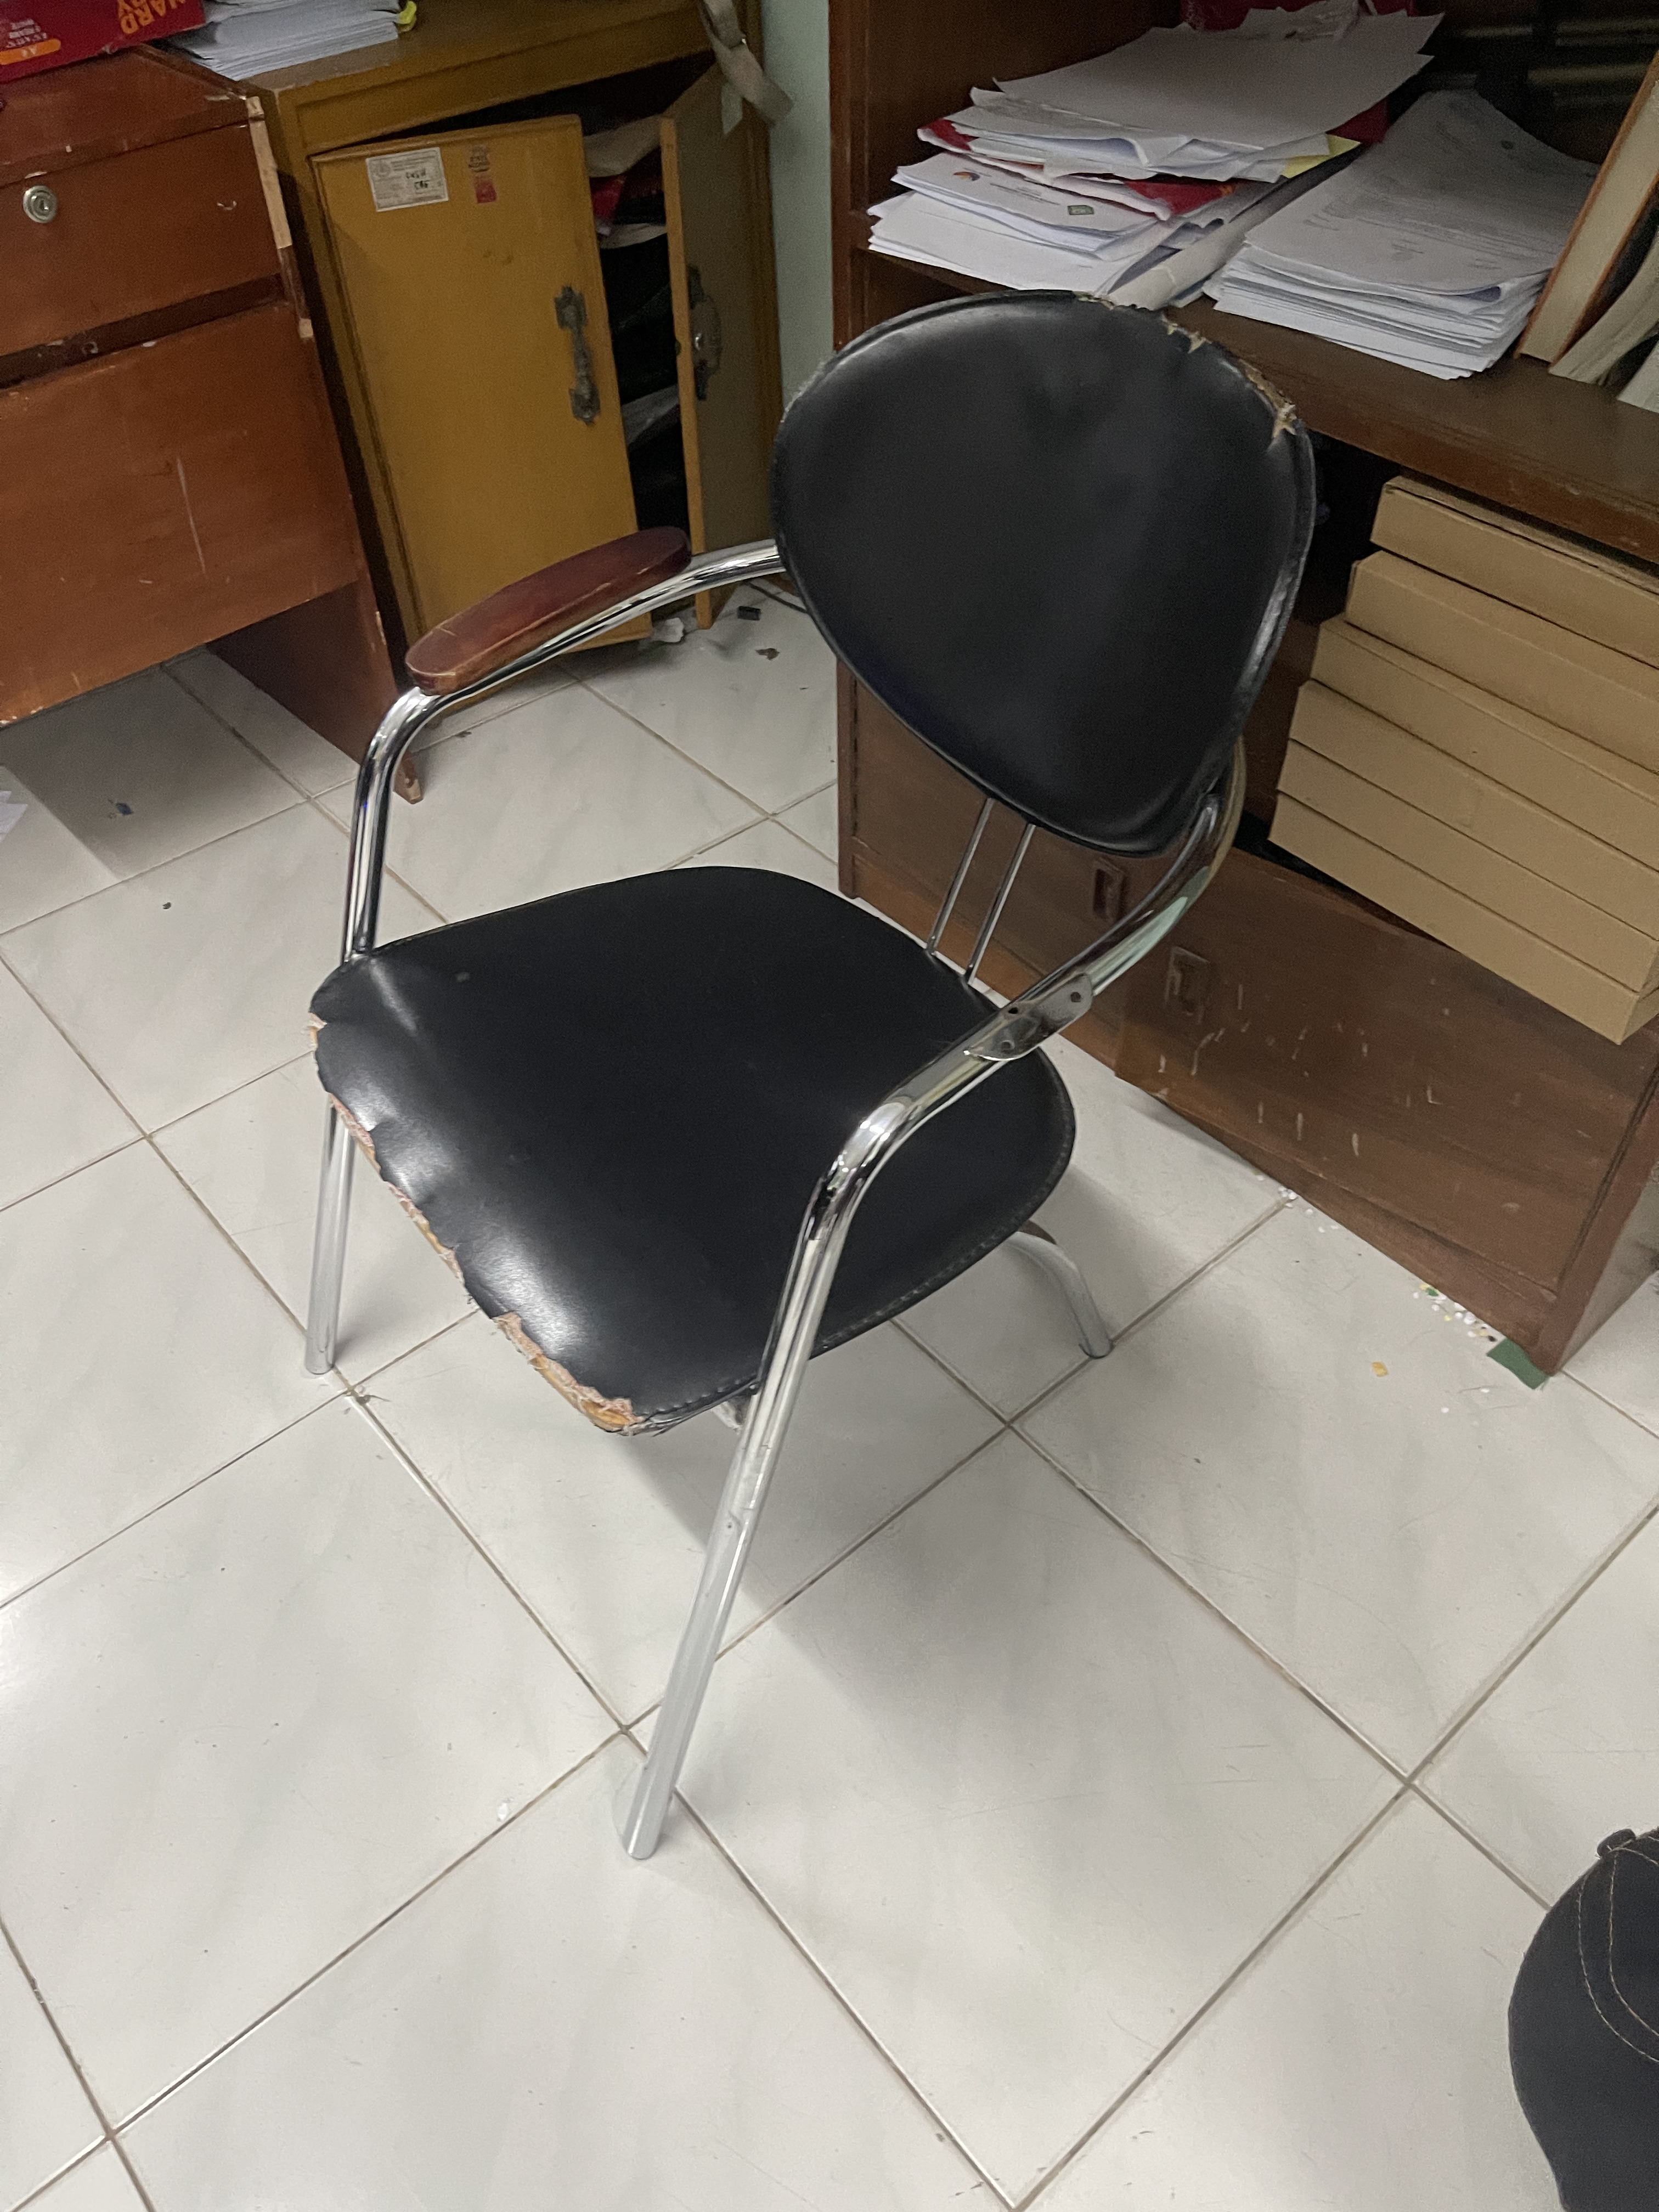chair1: (295, 286, 1326, 1862)
